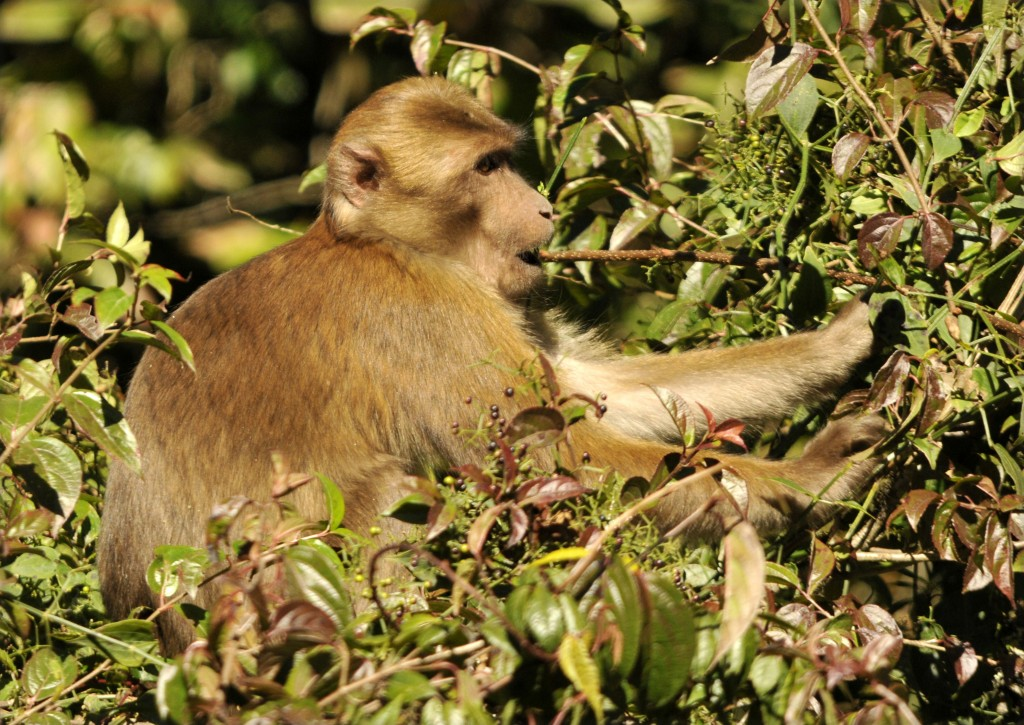monkey: (86, 65, 917, 630)
